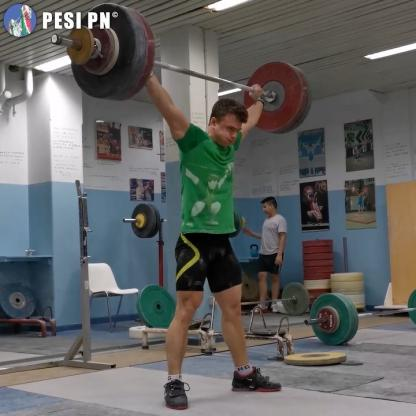barbell: (72, 4, 138, 100), (244, 62, 305, 133), (311, 294, 352, 347)
